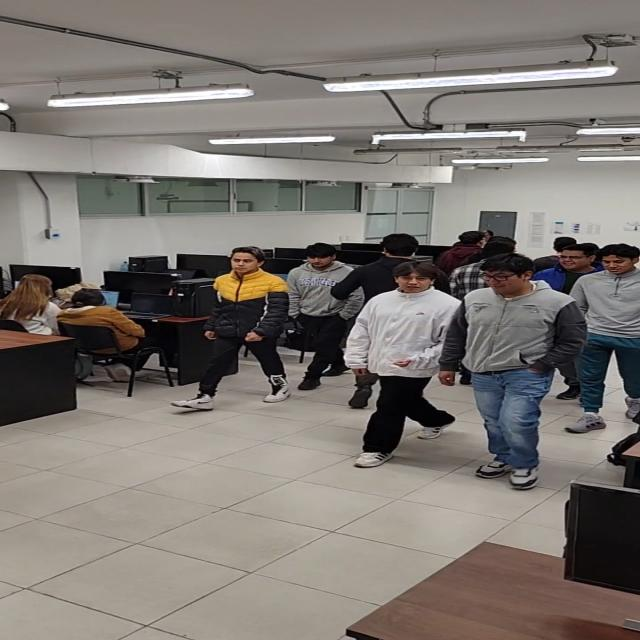Persona: (459, 262, 560, 476), (366, 265, 465, 445), (196, 249, 288, 401), (592, 248, 639, 390), (303, 244, 350, 362)
